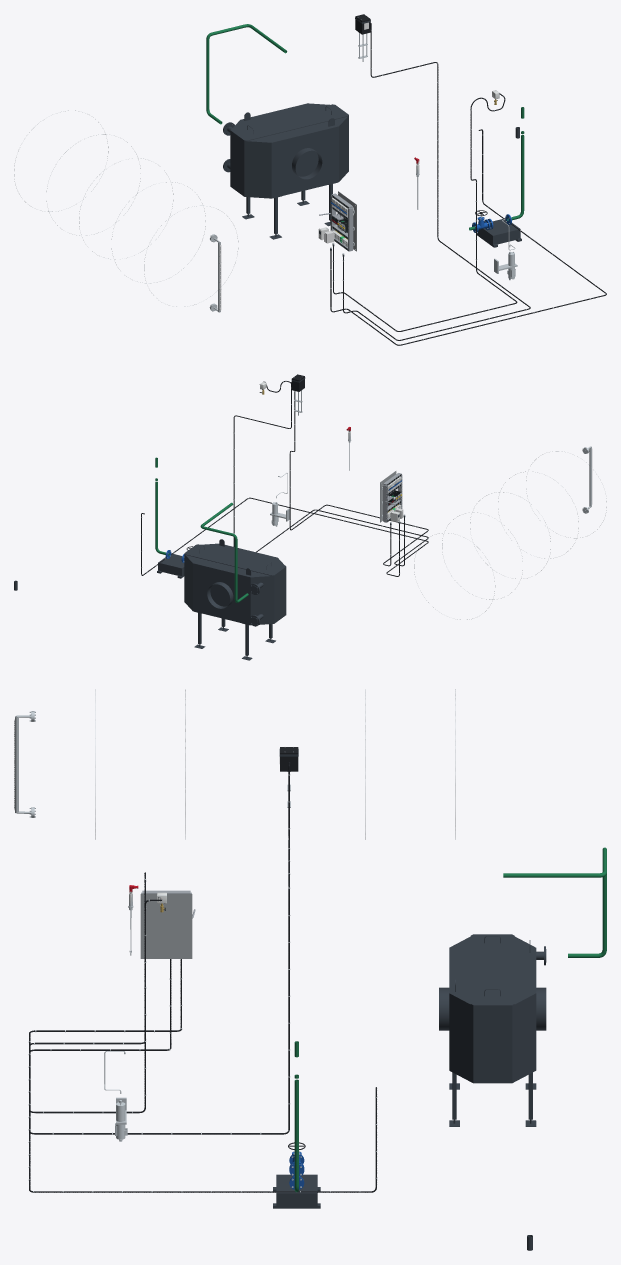
The picture shows the model from 3 angles, top to bottom: view 1: azimuth 30°, elevation 25°; view 2: azimuth 150°, elevation 25°; view 3: azimuth 270°, elevation 25°; orthographic projection. The views are drawn at different scales.
Visible parts, largest first — view 1: EQS2-2000 CAD 3, EQS2-2000 CAD 0, EQS2-2000 CAD 1, cabinet_interior / cabinet_interior_0.npz, gpz_drive_cable / black, wiring_pump_2 / black, wiring_pressure_switch_3 / black, pump_branch_1 / dark, from_economizer / green, deaerator_details / steel, pump_branch_1 / green; view 2: EQS2-2000 CAD 3, EQS2-2000 CAD 0, EQS2-2000 CAD 2, cabinet_interior / cabinet_interior_0.npz, gpz_drive_cable / black, wiring_pressure_switch_3 / black, wiring_pump_2 / black, deaerator_details / steel, from_economizer / green, pump_branch_1 / dark; view 3: EQS2-2000 CAD 3, cabinet_interior / cabinet_interior_0.npz, EQS2-2000 CAD 0, gpz_drive_cable / black, wiring_pump_2 / black, wiring_pressure_switch_3 / black, pump_branch_1 / dark, from_economizer / green, deaerator_details / steel.
Part boxes in pixels (x1,y1,x2,y2): EQS2-2000 CAD 3: (230, 103, 348, 196); EQS2-2000 CAD 0: (242, 126, 338, 239); EQS2-2000 CAD 1: (244, 141, 271, 198); cabinet_interior / cabinet_interior_0.npz: (319, 191, 356, 251); gpz_drive_cable / black: (343, 23, 530, 340); wiring_pump_2 / black: (330, 129, 606, 345); wiring_pressure_switch_3 / black: (333, 93, 517, 331); pump_branch_1 / dark: (477, 218, 521, 247); from_economizer / green: (206, 24, 287, 124); deaerator_details / steel: (14, 110, 238, 312); pump_branch_1 / green: (469, 107, 524, 230); EQS2-2000 CAD 3: (184, 539, 286, 623); EQS2-2000 CAD 0: (193, 563, 275, 660); EQS2-2000 CAD 2: (249, 576, 274, 626); cabinet_interior / cabinet_interior_0.npz: (380, 471, 402, 522); gpz_drive_cable / black: (233, 382, 428, 566); wiring_pressure_switch_3 / black: (259, 381, 428, 566); wiring_pump_2 / black: (141, 497, 428, 576); deaerator_details / steel: (414, 446, 606, 619); from_economizer / green: (200, 502, 248, 602); pump_branch_1 / dark: (157, 553, 184, 578); EQS2-2000 CAD 3: (449, 934, 536, 1083); cabinet_interior / cabinet_interior_0.npz: (140, 890, 195, 958); EQS2-2000 CAD 0: (439, 987, 546, 1126); gpz_drive_cable / black: (29, 763, 289, 1134); wiring_pump_2 / black: (29, 959, 376, 1192); wiring_pressure_switch_3 / black: (29, 872, 181, 1113); pump_branch_1 / dark: (273, 1174, 320, 1208); from_economizer / green: (503, 847, 606, 957); deaerator_details / steel: (15, 689, 455, 839).
Bounding box in the file's own units: 8.04 × 3.7 × 5.59.
